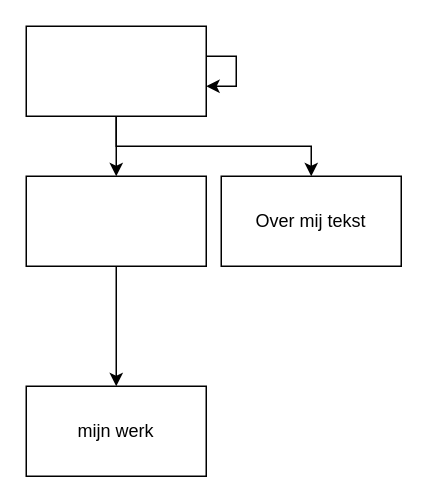
The diagram is 428 pixels wide and 503 high, and some of its shapes have lost their labels. Here are the shapes that lost their labels. From the top down, the centre of each, then its label:
At point 115,70: "About".
At point 115,220: "Foto".
